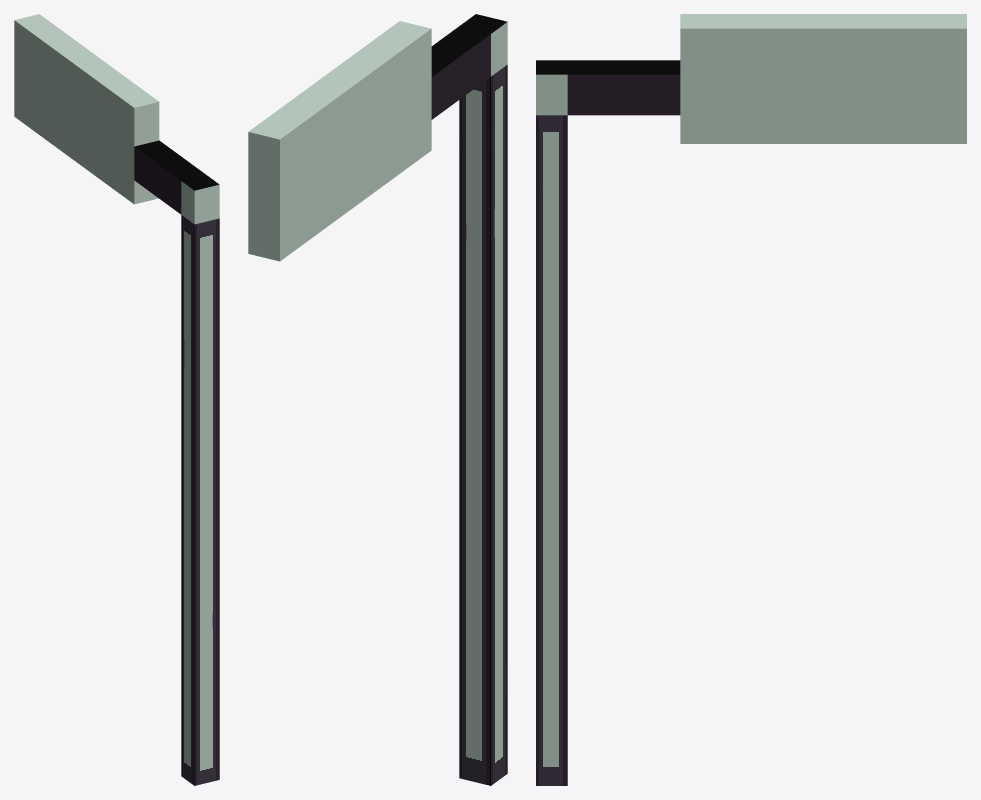
File: honglvdeng.glb
The picture shows the model from 3 angles, left to right: view 1: azimuth 30°, elevation 25°; view 2: azimuth 150°, elevation 25°; view 3: azimuth 270°, elevation 25°; orthographic projection. The views are drawn at different scales.
Visible parts, largest first — view 1: 立方体; view 2: 立方体; view 3: 立方体.
Part boxes in pixels (x1,y1,x2,y2): 立方体: (14, 14, 219, 785); 立方体: (248, 14, 507, 785); 立方体: (536, 14, 966, 785).
Bounding box in the file's own units: 0.3534 × 8.52 × 4.39.
1 material, 1 textured.
